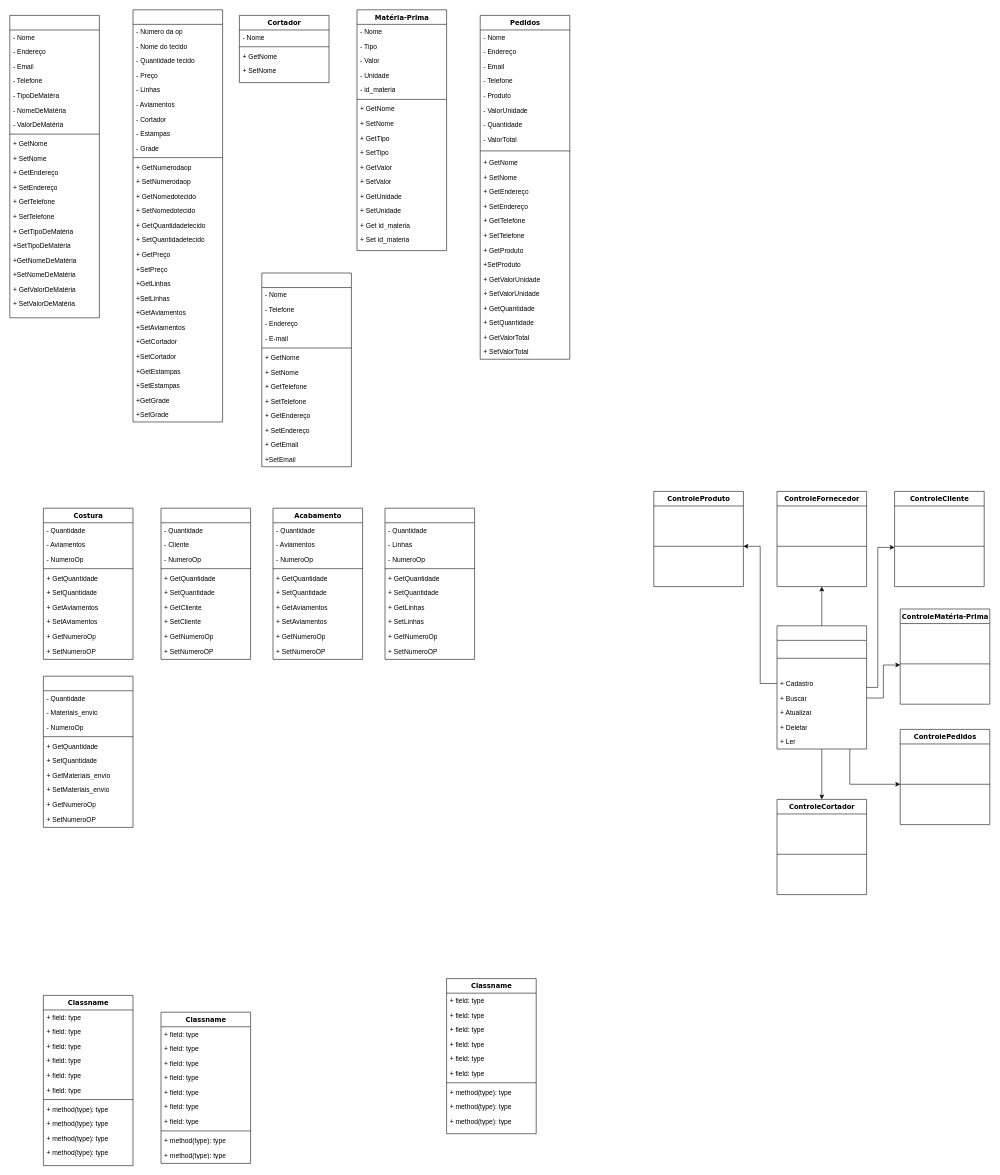
Image size: 1000x1175. Some labels were removed from this diagram. The shapes that lost their labels are listed below. From the top down, each one's box as (x1, y1, x2, y2) in pixels, then its label:
(9, 15, 99, 318): Fornecedor
(132, 9, 223, 422): Produto
(261, 272, 351, 467): Cliente
(160, 508, 251, 659): Estoque
(384, 508, 475, 659): Bordado
(776, 625, 867, 749): ClasseControle
(43, 676, 133, 827): Almoxarifado
